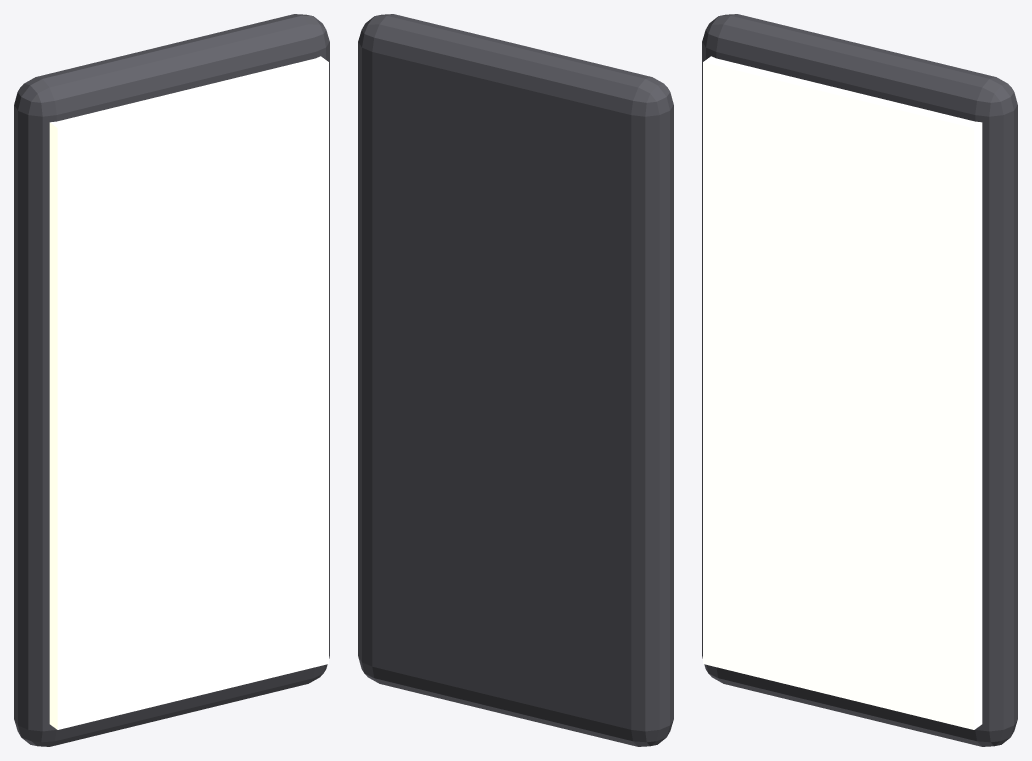
The model's file is sketch_phone.glb.
3 renders of one model, left to right at view 1: azimuth 30°, elevation 25°; view 2: azimuth 150°, elevation 25°; view 3: azimuth 330°, elevation 25°, orthographic.
Parts seen in each view (by area): view 1: Cube.001, Cube; view 2: Cube; view 3: Cube.001, Cube.
Boxes of the visible parts, x1=… form: Cube.001: x1=49, y1=56, x2=328, y2=729; Cube: x1=14, y1=14, x2=329, y2=746; Cube: x1=358, y1=14, x2=673, y2=746; Cube.001: x1=703, y1=56, x2=982, y2=729; Cube: x1=702, y1=14, x2=1017, y2=746.
Size of the model in its own units: 0.075 by 0.155 by 0.015.
